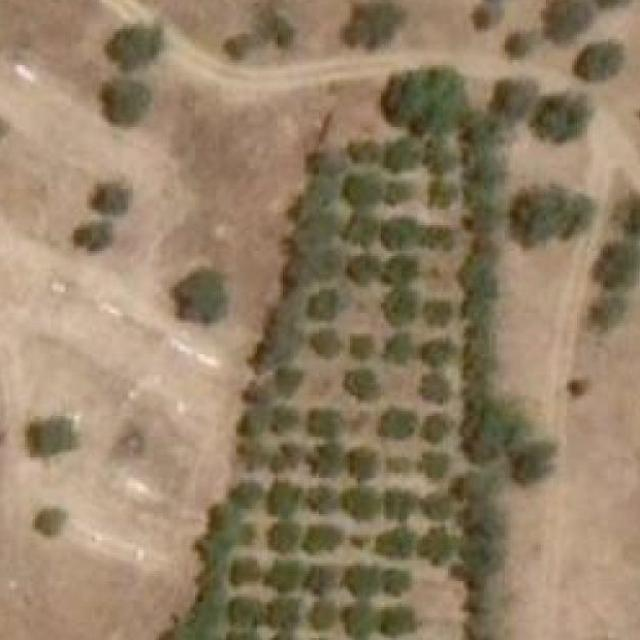Tree: (384, 65, 470, 130), (286, 210, 337, 290), (513, 183, 568, 246), (250, 302, 296, 370), (526, 93, 588, 142), (340, 3, 400, 53), (175, 269, 229, 321), (105, 24, 160, 68), (105, 75, 150, 127), (535, 0, 590, 42), (597, 240, 640, 292), (22, 416, 71, 460), (90, 173, 134, 215), (577, 40, 621, 78), (492, 78, 530, 120), (586, 292, 622, 333), (260, 12, 301, 48), (560, 197, 594, 239), (381, 251, 420, 287), (381, 287, 417, 326), (515, 444, 551, 483), (298, 148, 343, 178), (610, 192, 640, 236), (266, 437, 302, 472), (374, 530, 415, 560), (384, 218, 420, 252), (69, 222, 111, 251), (384, 140, 418, 174), (342, 173, 377, 204), (342, 488, 377, 519), (422, 140, 453, 174), (348, 214, 379, 248), (342, 602, 373, 636), (308, 327, 338, 362), (306, 524, 341, 554), (32, 502, 61, 538), (350, 447, 379, 483), (266, 481, 296, 515), (306, 287, 334, 323), (348, 137, 382, 166), (240, 380, 274, 409), (304, 408, 338, 437), (350, 558, 379, 592), (417, 447, 448, 478), (422, 414, 453, 445), (229, 478, 260, 509), (304, 560, 334, 592), (308, 596, 338, 628), (468, 1, 498, 32), (422, 298, 453, 328), (312, 445, 342, 476), (268, 560, 298, 590), (383, 173, 412, 204), (381, 409, 410, 440), (228, 596, 257, 626), (424, 222, 453, 251), (347, 256, 376, 285), (386, 488, 415, 517), (264, 521, 293, 550), (228, 519, 257, 548), (383, 607, 412, 636), (268, 596, 296, 626), (383, 336, 412, 364), (221, 34, 252, 60), (420, 342, 451, 368), (348, 370, 379, 396), (425, 530, 451, 560), (424, 182, 453, 208), (276, 364, 299, 396), (502, 32, 528, 58), (422, 494, 448, 520), (419, 378, 448, 401), (348, 334, 374, 359), (234, 414, 260, 438), (234, 558, 258, 584), (270, 409, 296, 432), (312, 486, 335, 512), (386, 569, 410, 592), (386, 454, 407, 473), (587, 0, 633, 8), (350, 535, 365, 550), (0, 114, 7, 146)
